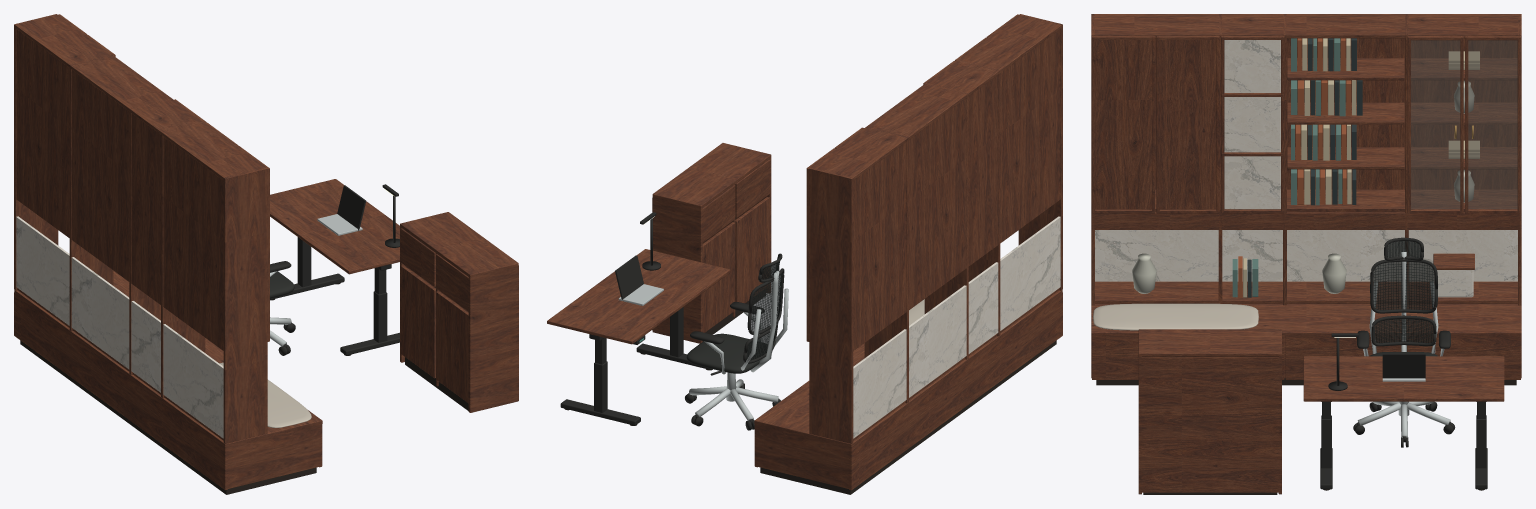
Rendered from study-v14.glb.
3 views of the same model, side by side, from view 1: azimuth 30°, elevation 25°; view 2: azimuth 150°, elevation 25°; view 3: azimuth 270°, elevation 25° (orthographic).
Visible parts, largest first — view 1: Furniture_study_bookcase, Furniture_study_side_cabinet, Furniture_study_standing_desk, Furniture_study_desktop_items, Furniture_study_task_chair; view 2: Furniture_study_bookcase, Furniture_study_side_cabinet, Furniture_study_standing_desk, Furniture_study_task_chair, Furniture_study_desktop_items; view 3: Furniture_study_bookcase, Furniture_study_side_cabinet, Furniture_study_standing_desk, Furniture_study_task_chair, Furniture_study_desktop_items.
Part boxes in pixels (left/top/right/bottom): Furniture_study_bookcase: left=14, top=14, right=322, bottom=494; Furniture_study_side_cabinet: left=400, top=212, right=518, bottom=412; Furniture_study_standing_desk: left=270, top=179, right=399, bottom=355; Furniture_study_desktop_items: left=317, top=184, right=399, bottom=247; Furniture_study_task_chair: left=270, top=261, right=295, bottom=355; Furniture_study_bookcase: left=754, top=14, right=1062, bottom=494; Furniture_study_side_cabinet: left=652, top=143, right=771, bottom=343; Furniture_study_standing_desk: left=547, top=249, right=730, bottom=425; Furniture_study_task_chair: left=685, top=253, right=788, bottom=430; Furniture_study_desktop_items: left=615, top=212, right=663, bottom=305; Furniture_study_bookcase: left=1091, top=14, right=1521, bottom=385; Furniture_study_side_cabinet: left=1138, top=329, right=1281, bottom=494; Furniture_study_standing_desk: left=1303, top=356, right=1504, bottom=490; Furniture_study_task_chair: left=1353, top=237, right=1455, bottom=447; Furniture_study_desktop_items: left=1328, top=333, right=1425, bottom=390.
Size of the model in its own units: 2.6 by 2.5 by 3.
Materials: 20 (3 with a texture image).
